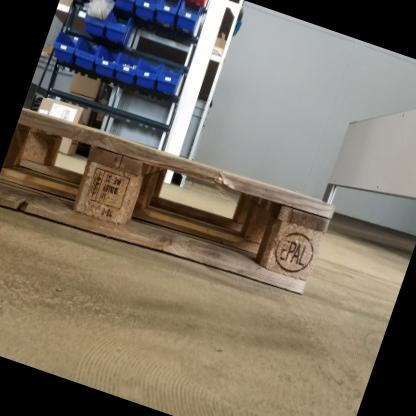BoxFace: (0, 102, 338, 300)
